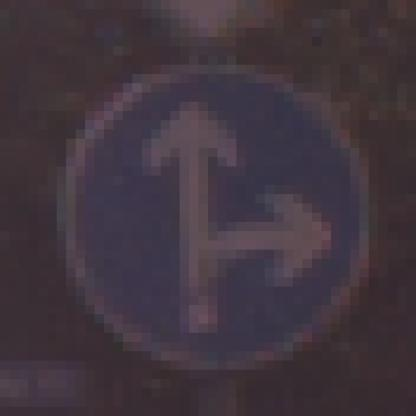Straight or Right: (58, 47, 370, 362)
